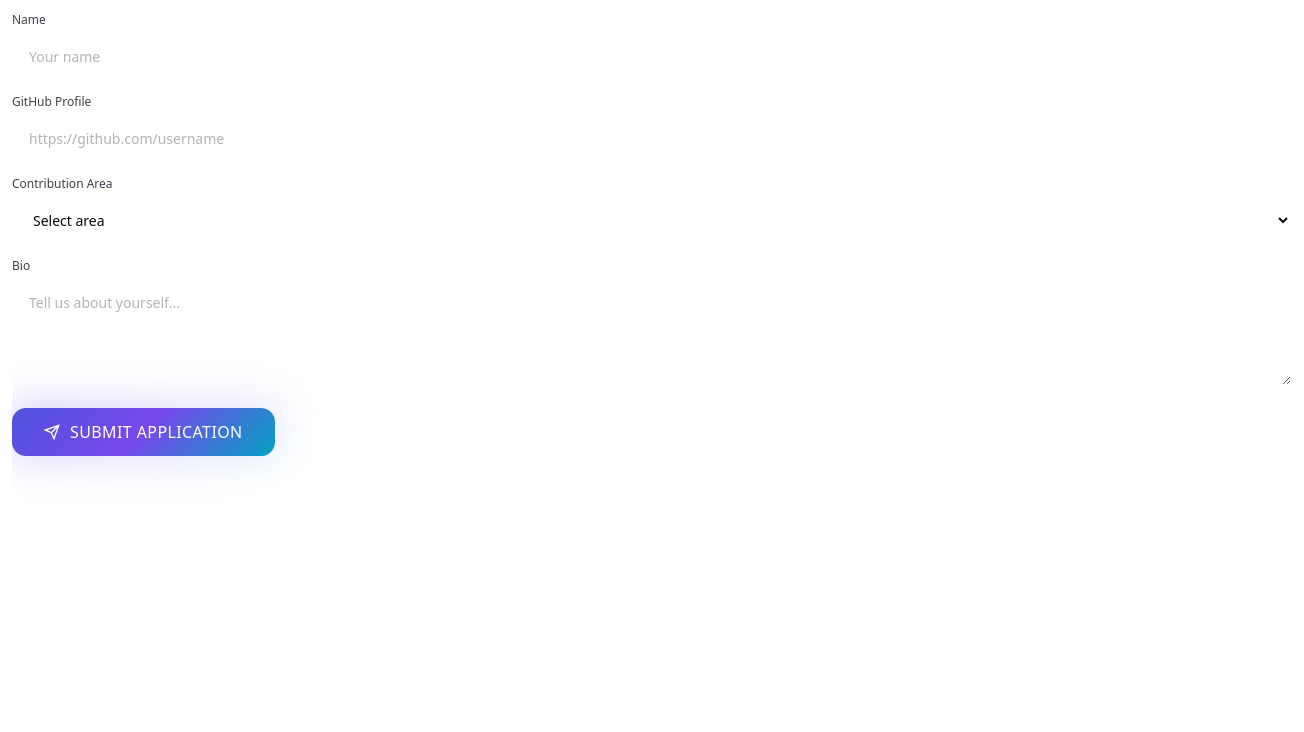
Scenario: ContributionForm validation error summary › removes the summary once the fields become valid
The width and height of the screenshot is (1304, 732).
Click the button "Submit Application": click(143, 432) [12, 408, 275, 456]
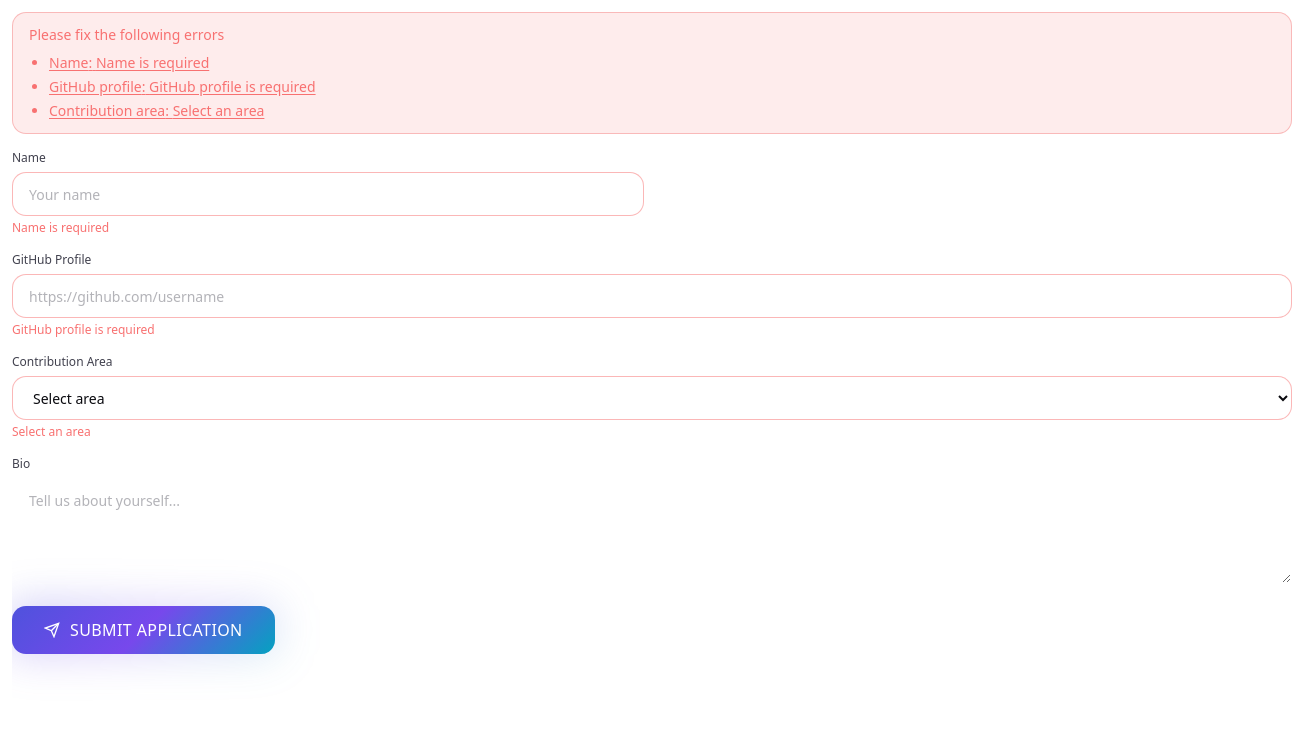
Expected: the message with test id "error-summary" is shown, [12, 12, 1292, 134]
In the field with id "app-name": (328, 194) [12, 172, 644, 216], type "Jane Doe"
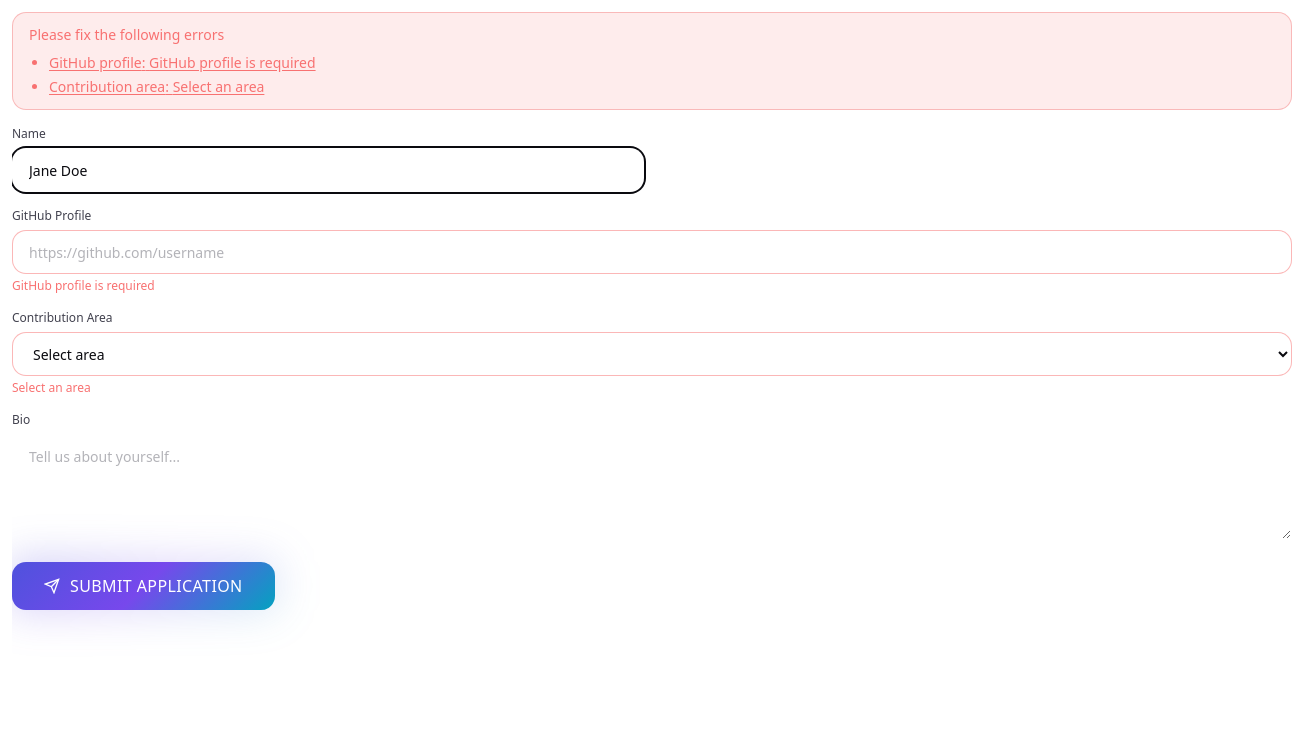
In the field with id "app-github": (652, 252) [12, 230, 1292, 274], type "https://github.com/janedoe"
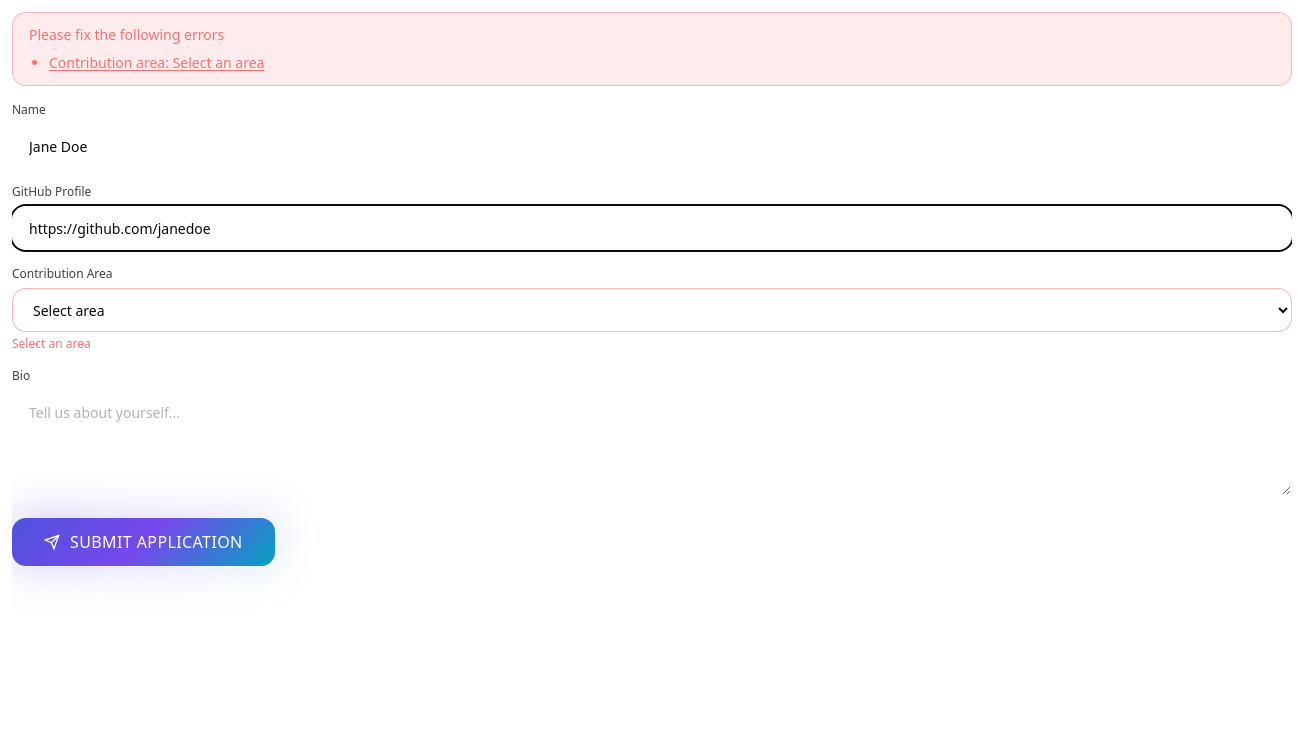
Select "Design & UI/UX" in the dropdown with id "app-area": (652, 310) [12, 288, 1292, 332]
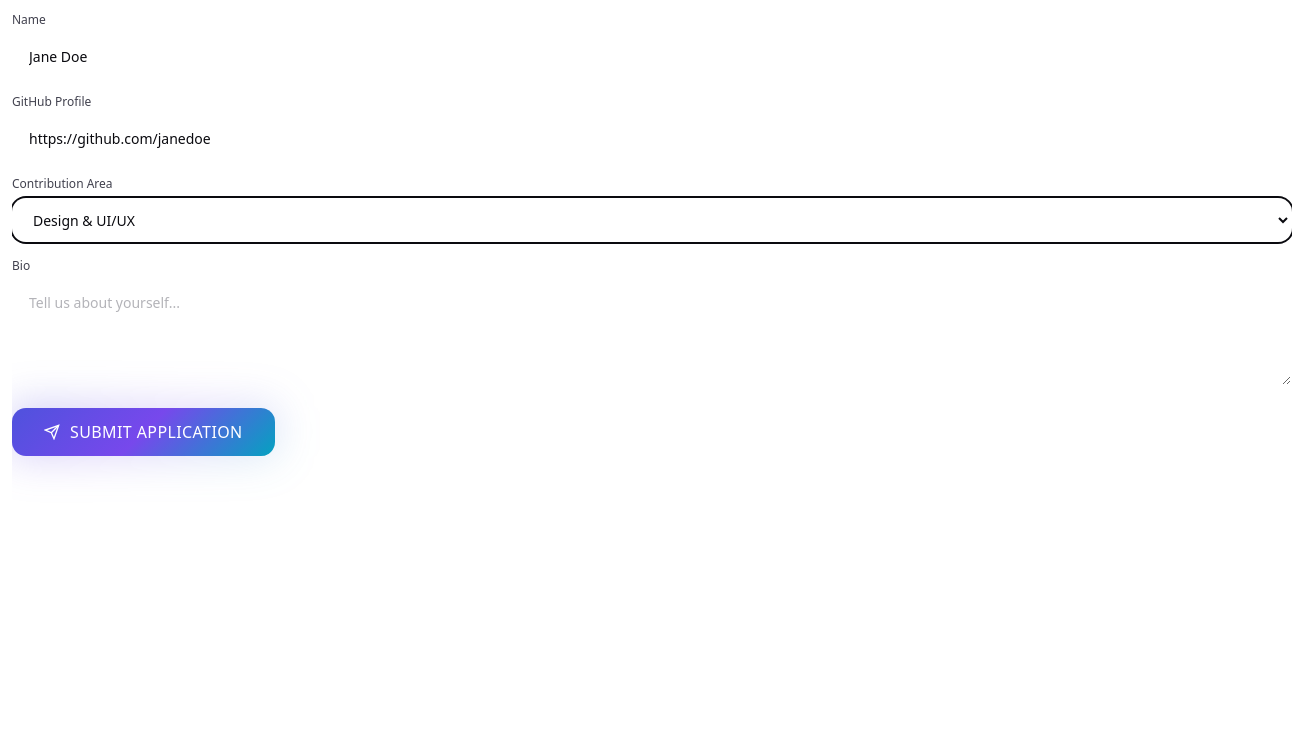
Expected: the message with test id "error-summary" is gone
